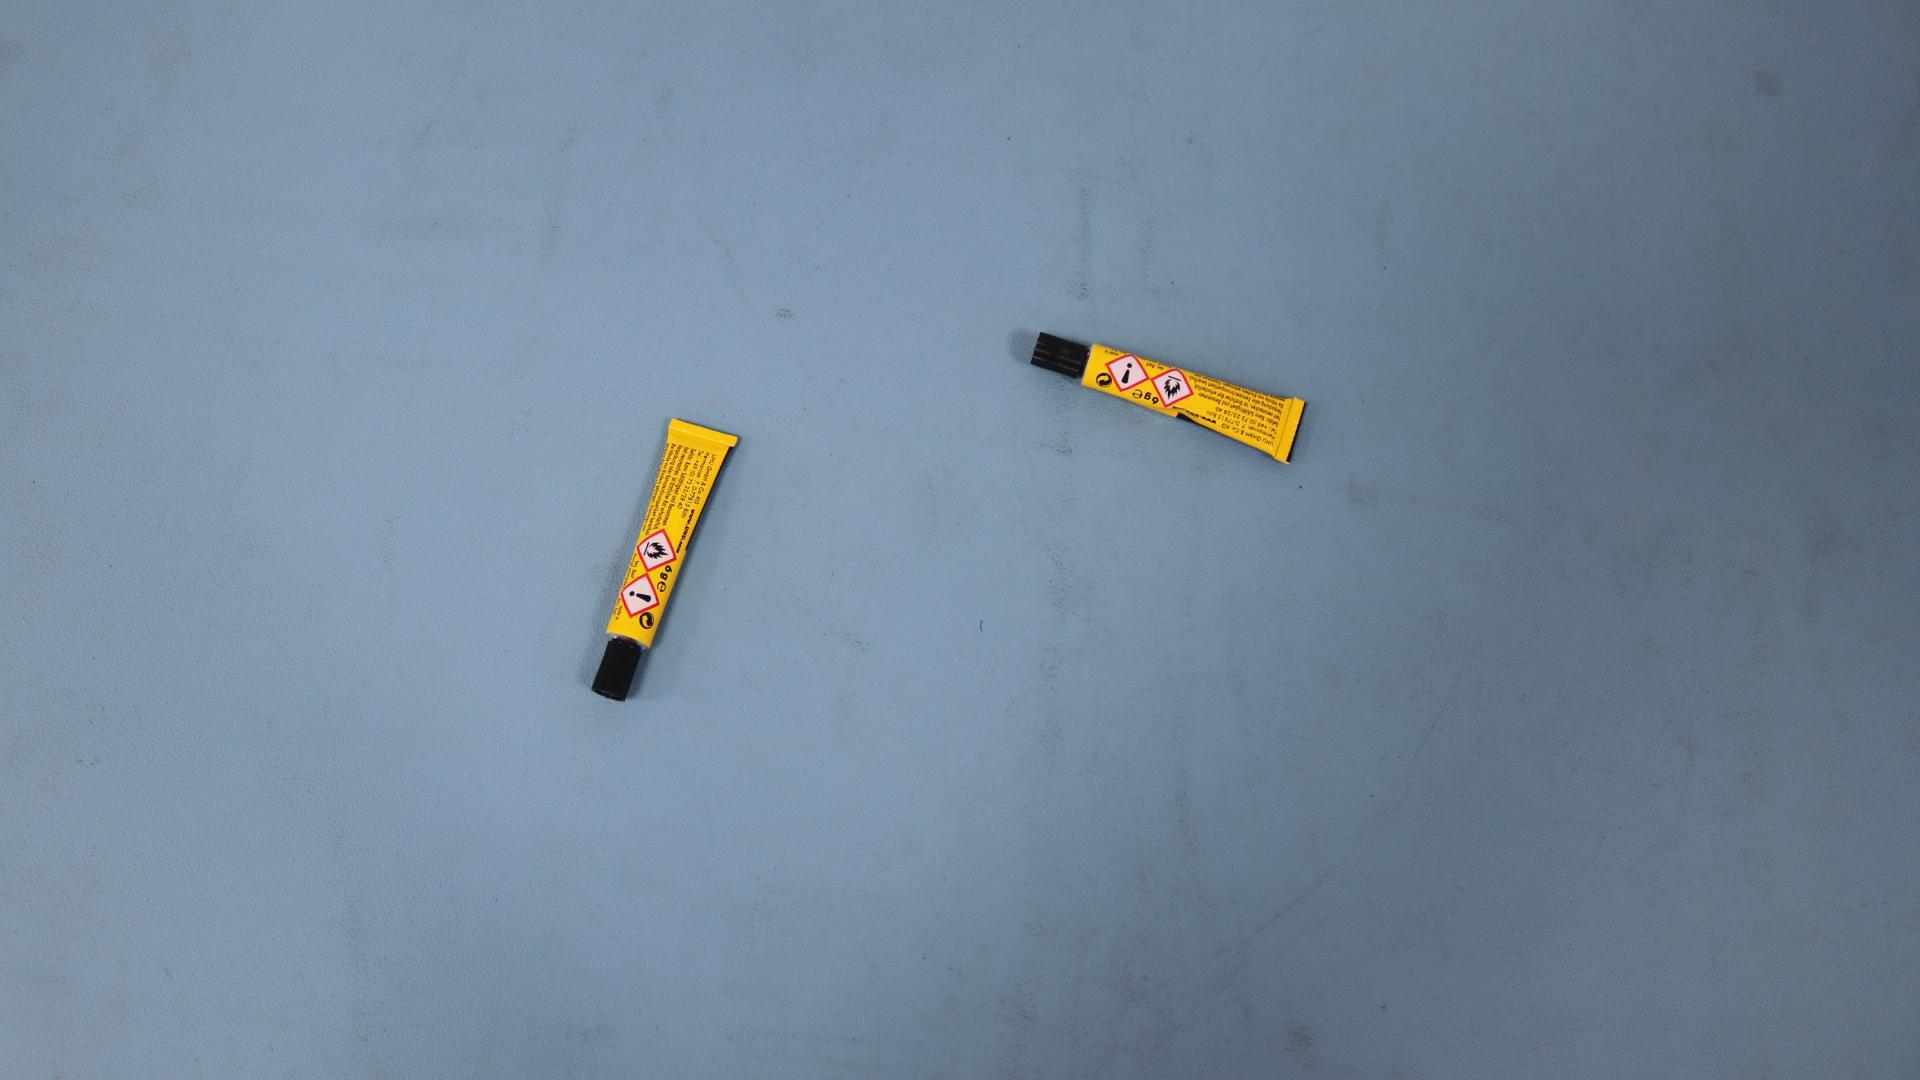Head: (612, 664, 622, 672), (1056, 352, 1062, 358)
Tail: (1286, 427, 1294, 434), (698, 427, 705, 434)
Tube: (591, 419, 740, 703), (1030, 332, 1307, 464)
